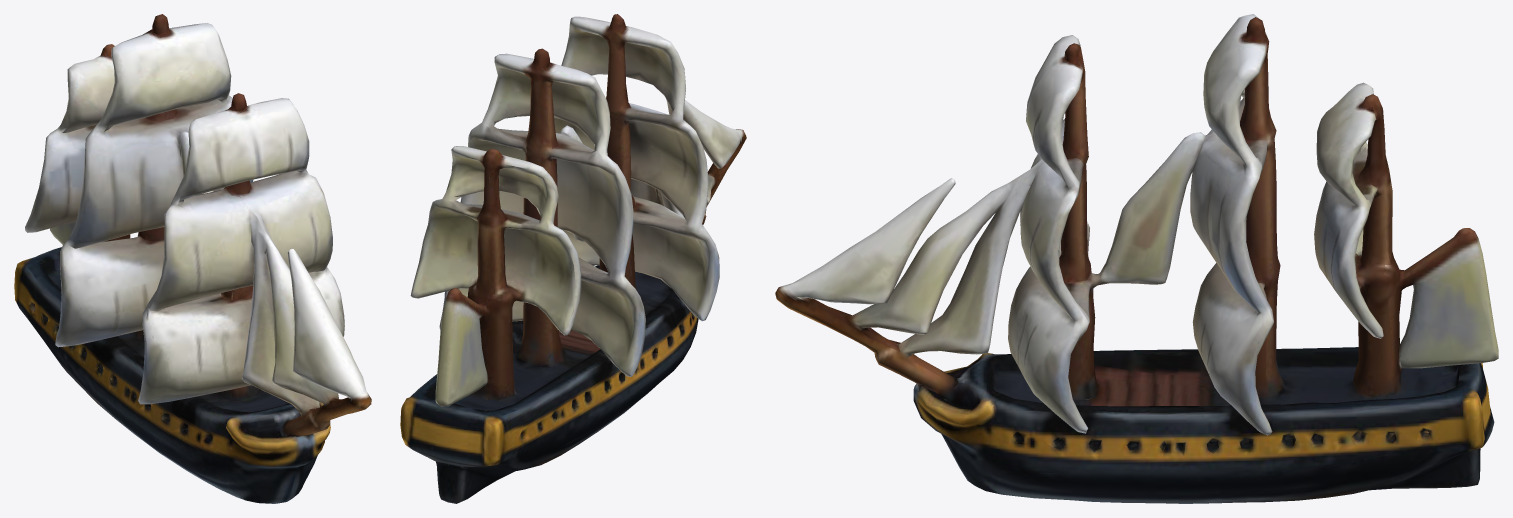
File: frigate_b.glb
The picture shows the model from 3 angles, left to right: view 1: azimuth 30°, elevation 25°; view 2: azimuth 150°, elevation 25°; view 3: azimuth 270°, elevation 25°; orthographic projection. The views are drawn at different scales.
Parts seen in each view (by area): view 1: world; view 2: world; view 3: world.
Boxes of the visible parts, left/top/right/bottom form: world: left=14, top=14, right=371, bottom=503; world: left=400, top=14, right=746, bottom=503; world: left=775, top=14, right=1498, bottom=503.
Size of the model in its own units: 0.3791 by 0.7106 by 1.
Materials: 1 (1 with a texture image).
